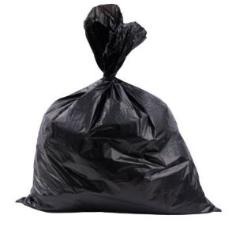plastic: (15, 3, 221, 215)
